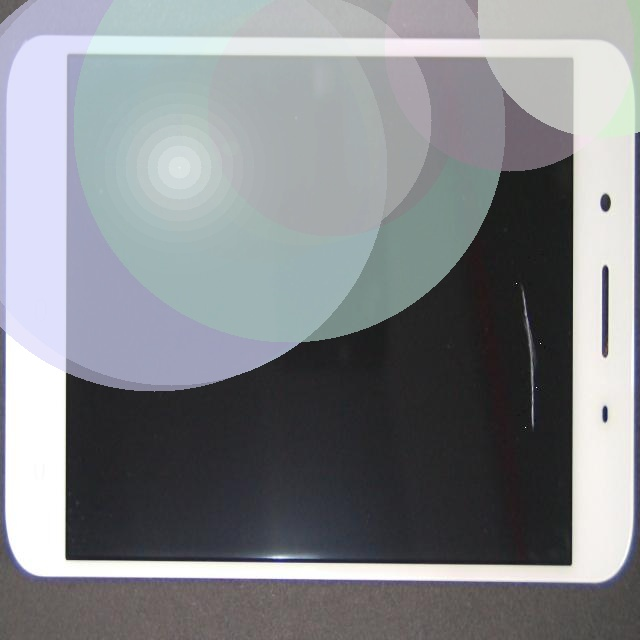scratch: (268, 227, 640, 640)
